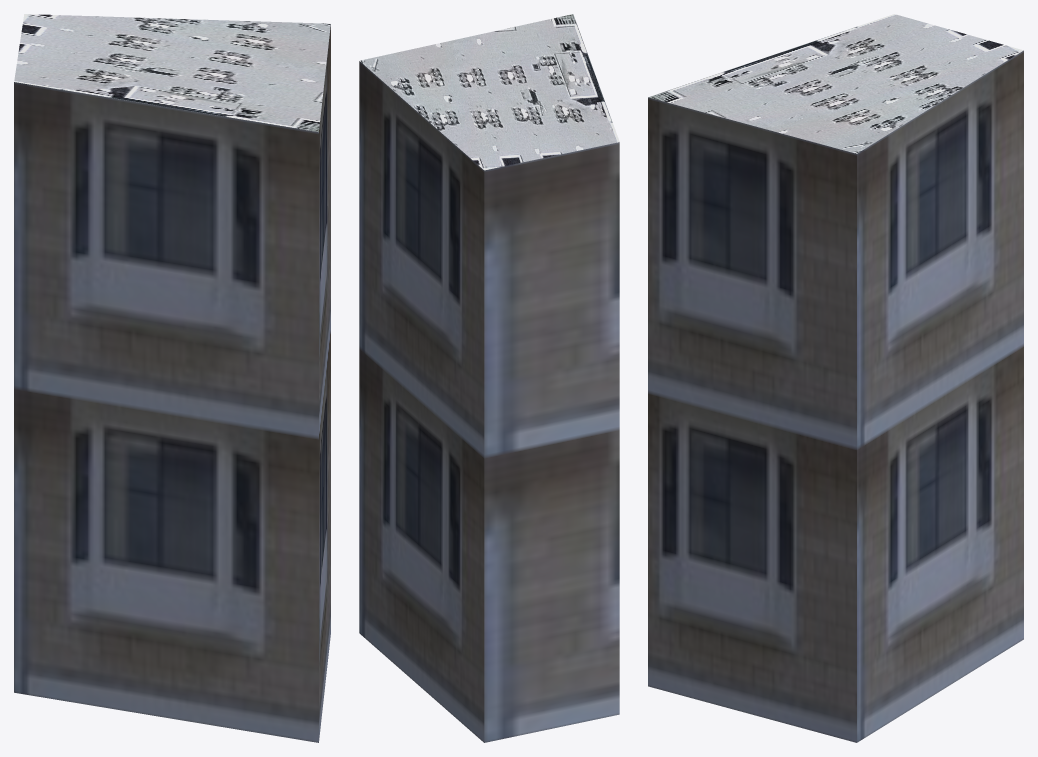
The model's file is ResTex__4853.fbx.
The picture shows the model from 3 angles, left to right: view 1: azimuth 30°, elevation 25°; view 2: azimuth 150°, elevation 25°; view 3: azimuth 270°, elevation 25°; orthographic projection. The views are drawn at different scales.
Parts seen in each view (by area): view 1: CityEngineMaterial_3_m, CityEngineMaterial_4_m; view 2: CityEngineMaterial_3_m, CityEngineMaterial_4_m; view 3: CityEngineMaterial_3_m, CityEngineMaterial_4_m.
Part boxes in pixels (x1,y1,x2,y2): CityEngineMaterial_3_m: (14, 24, 330, 742); CityEngineMaterial_4_m: (14, 14, 330, 132); CityEngineMaterial_3_m: (359, 61, 619, 742); CityEngineMaterial_4_m: (359, 14, 619, 170); CityEngineMaterial_3_m: (648, 50, 1023, 742); CityEngineMaterial_4_m: (648, 14, 1023, 153).
Bounding box in the file's own units: 3.06 × 6 × 3.47.
Materials: 2 (2 with a texture image).
